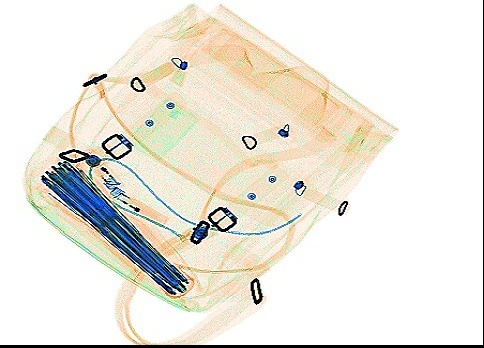lighter: (108, 186, 169, 227), (83, 147, 122, 191)
